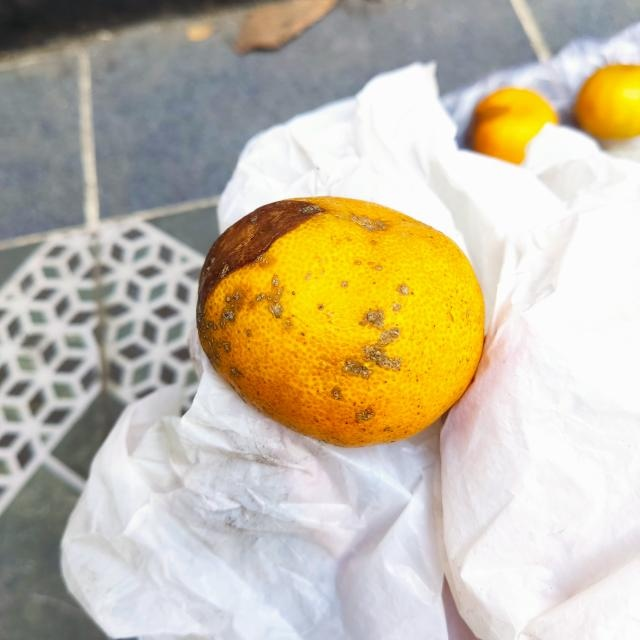agrume: (196, 196, 484, 448)
